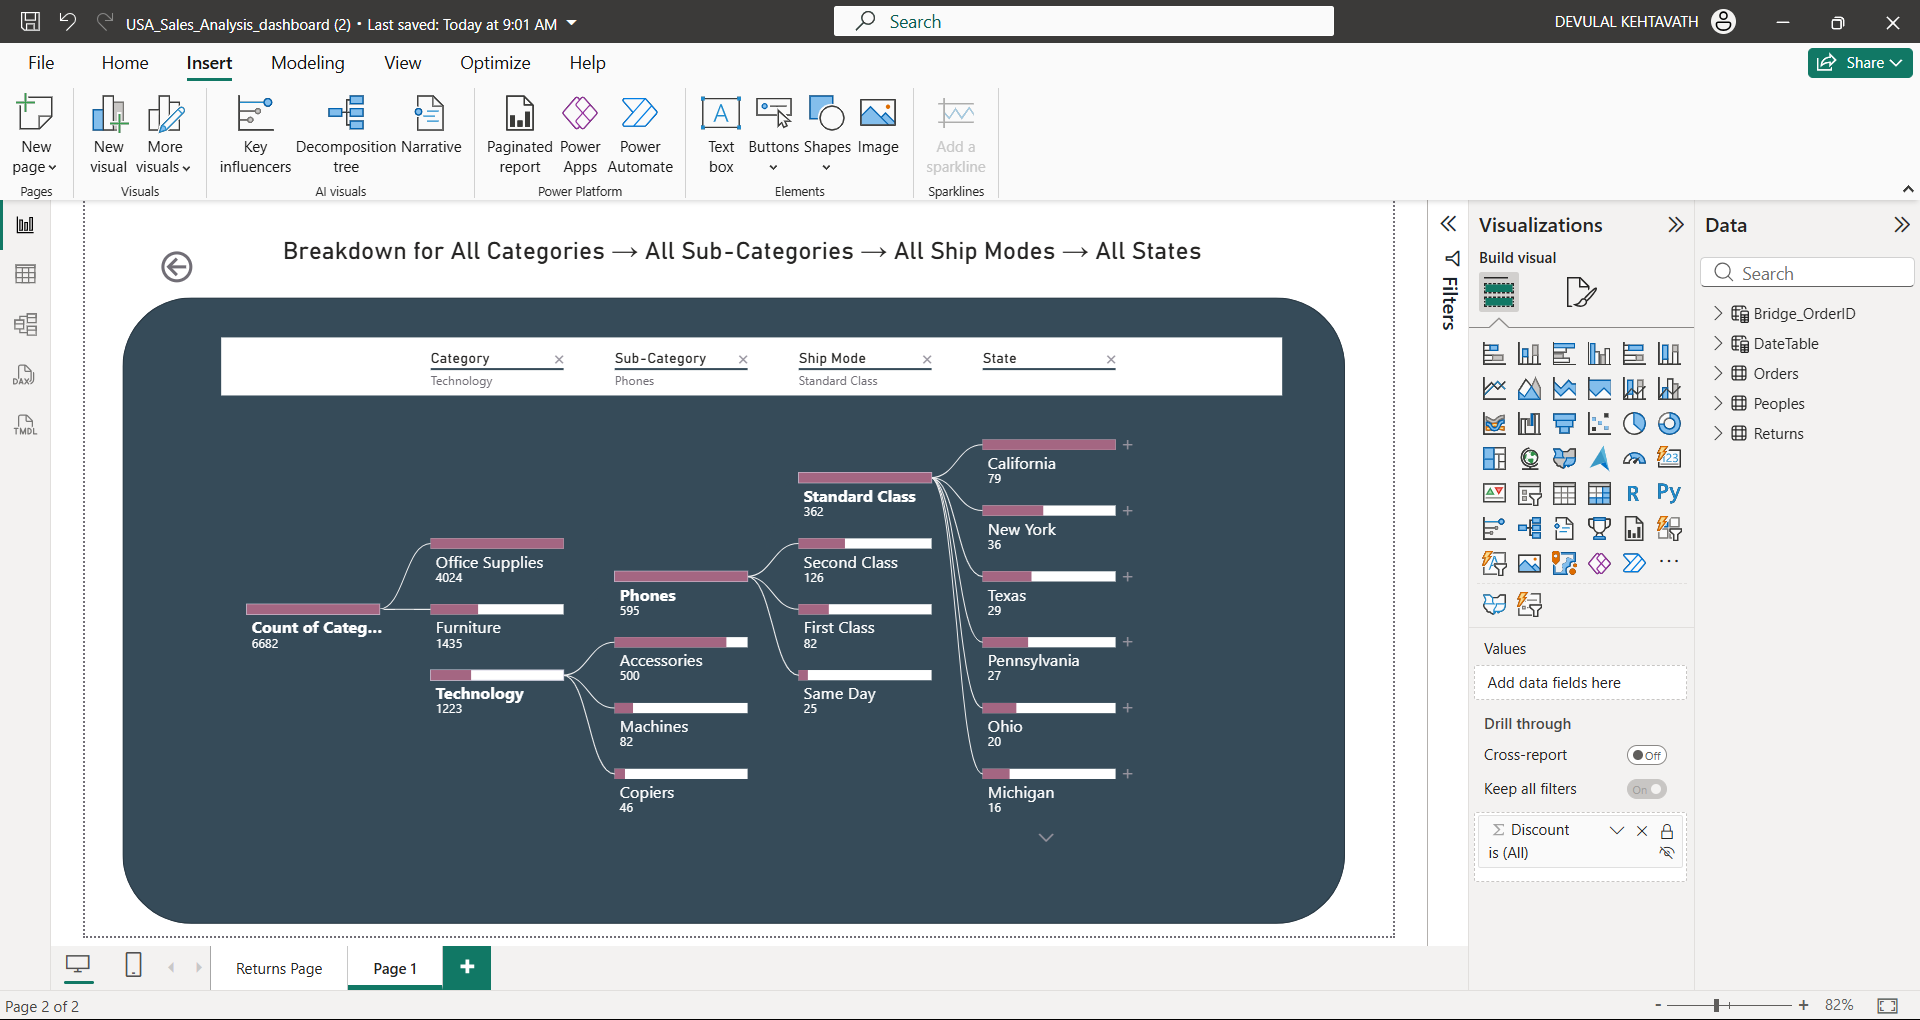

The page's visual inventory and layout, read from the dashboard file:
{"tool":"powerbi","page":{"name":"Page 1","canvas":[1280,720],"ordinal":1},"visuals":[{"type":"shape","box":[36.7,95.4,1195.9,612.6],"z":0},{"type":"decompositionTreeVisual","fields":{"ExplainBy":["Orders.Category","Orders.Sub-Category","Orders.Ship Mode","Orders.State","Orders.Country"],"Analyze":["CountNonNull(Orders.Category)"]},"box":[128.4,129.6,1048,524.6],"z":1000},{"type":"card","fields":{"Values":["Bridge_OrderID.Dynamic Tree Title"]},"box":[140.6,20.8,1005.2,56.3],"z":2000},{"type":"actionButton","box":[69.7,45.2,100.3,40.4],"z":3000}]}

Visuals, with their boxes on the page's 1280x720 design canvas (x1, y1, x2, y2). These are canvas units, not pixel positions in the 1920x1020 screenshot, which may show the page scaled, cropped or inside an application window:
shape: x1=37, y1=95, x2=1233, y2=708
decompositionTreeVisual - Orders.Category x Orders.Sub-Category: x1=128, y1=130, x2=1176, y2=654
card - Bridge_OrderID.Dynamic Tree Title: x1=141, y1=21, x2=1146, y2=77
actionButton: x1=70, y1=45, x2=170, y2=86
